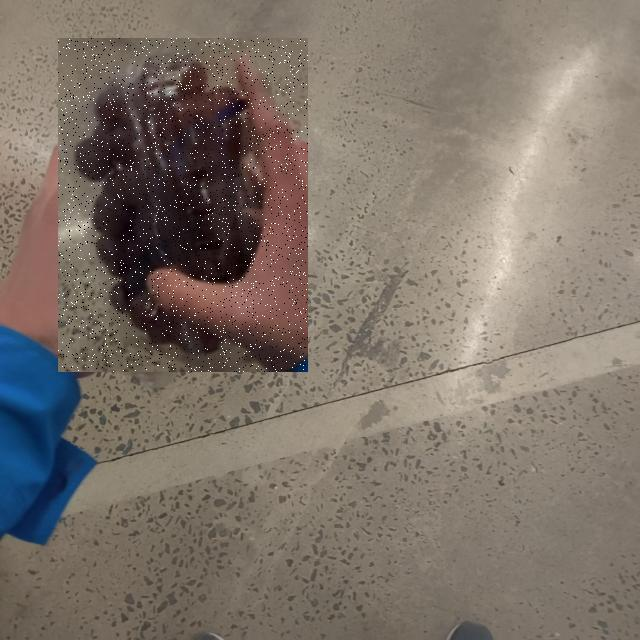Grapes: (59, 39, 309, 373)
